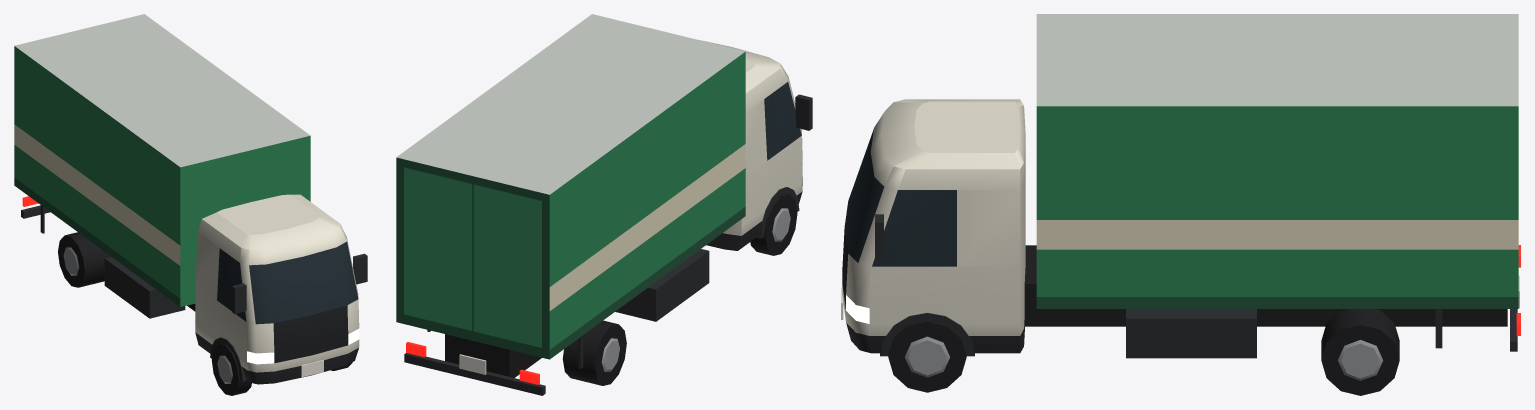
File: tokyo_delivery_truck.glb
3 renders of one model, left to right at view 1: azimuth 30°, elevation 25°; view 2: azimuth 150°, elevation 25°; view 3: azimuth 270°, elevation 25°, orthographic. The views are drawn at different scales.
Parts seen in each view (by area): view 1: tokyo_delivery_truck; view 2: tokyo_delivery_truck; view 3: tokyo_delivery_truck.
Part boxes in pixels (box(x1,y1,x2,y2)): tokyo_delivery_truck: box(14, 14, 367, 395); tokyo_delivery_truck: box(396, 14, 812, 395); tokyo_delivery_truck: box(841, 14, 1520, 395).
Size of the model in its own units: 2.04 by 2.95 by 6.23.
Materials: 1 (1 with a texture image).
